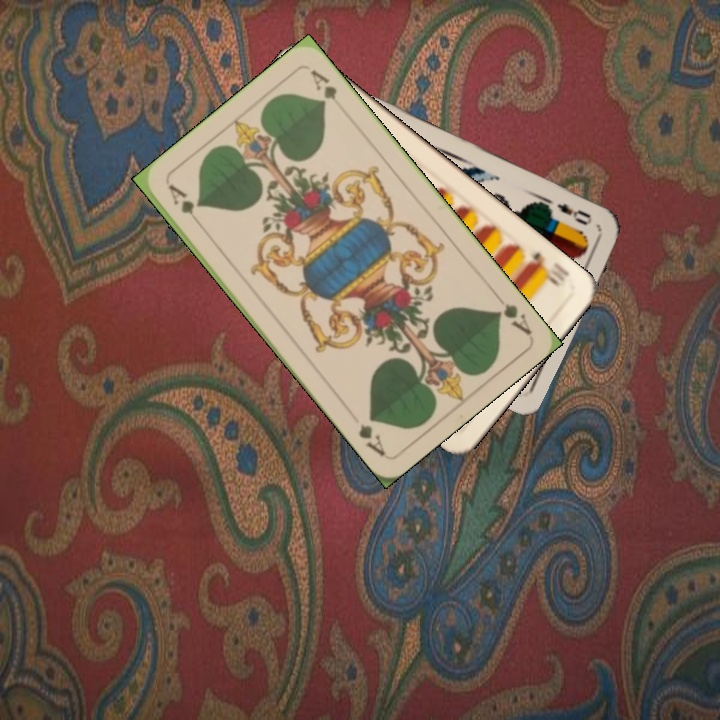E10: (524, 247, 573, 289)
EO: (552, 199, 595, 228)
GA: (491, 288, 534, 338), (164, 180, 206, 230)
